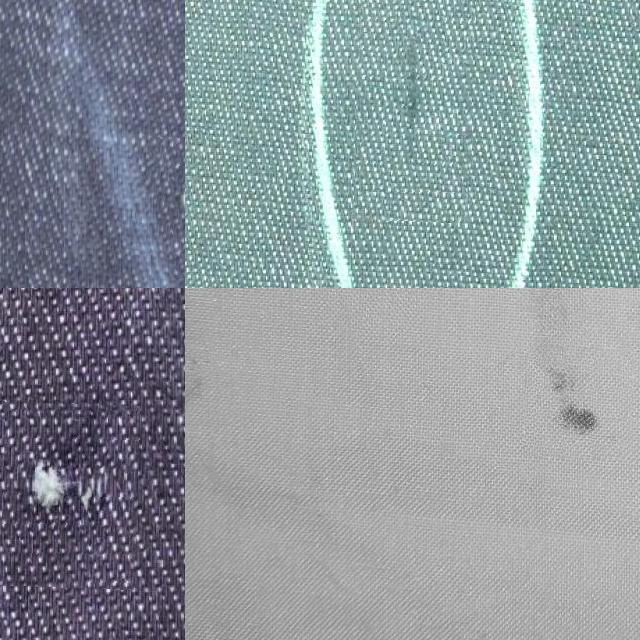Hole: (524, 346, 632, 458)
Thread_other: (355, 0, 474, 223), (0, 403, 139, 589), (147, 138, 185, 280)
